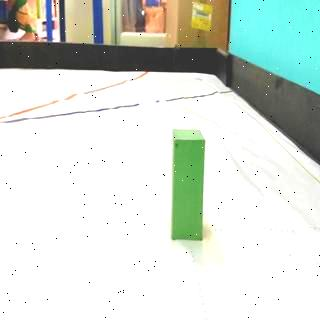greenbox: (171, 128, 205, 242)
